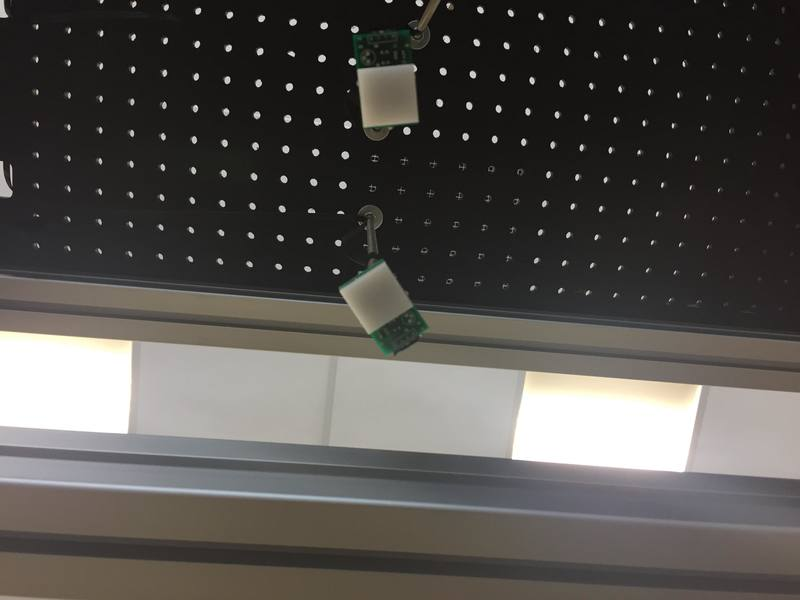target: (339, 263, 415, 334), (354, 65, 423, 128)
